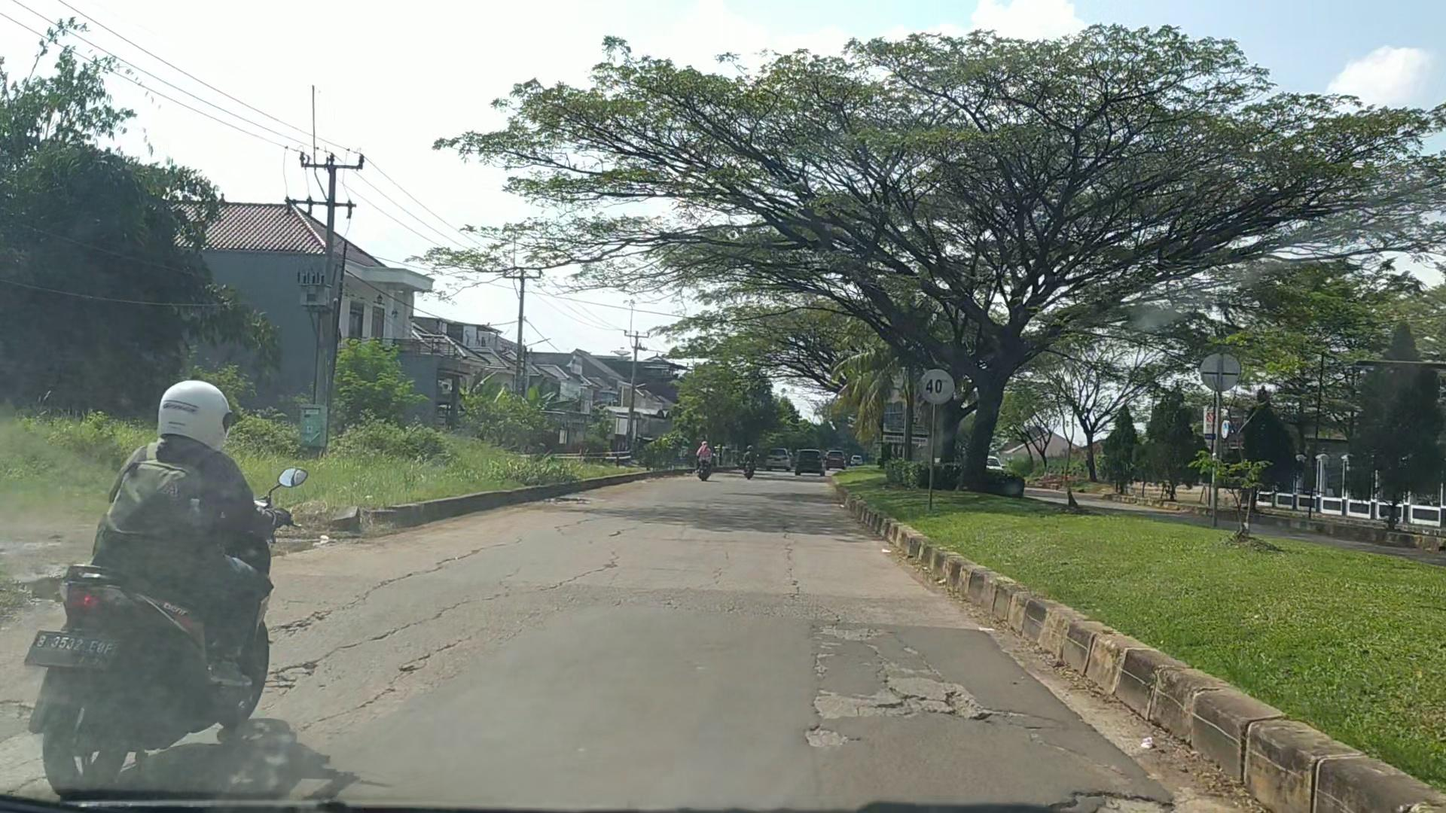pothole: (810, 672, 1029, 720), (258, 660, 317, 710), (269, 607, 335, 647), (803, 724, 852, 754)
